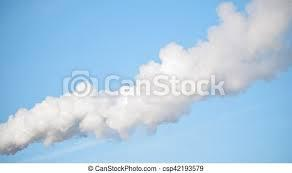smoke: (136, 41, 291, 89), (103, 88, 195, 143), (1, 105, 101, 152), (190, 1, 292, 42)
